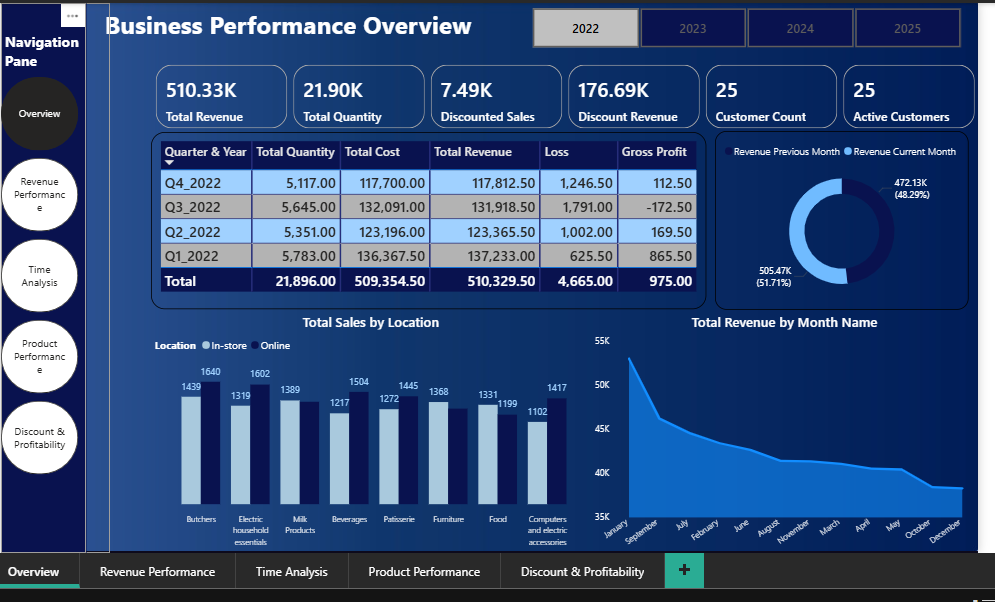

This screenshot's page, from the dashboard's own definition file:
{"tool":"powerbi","page":{"name":"Overview","canvas":[1280,720],"ordinal":0},"visuals":[{"type":"textbox","box":[0,0,111.9,720.4],"z":0,"group":"g1"},{"type":"cardVisual","fields":{"Data":["clean_retail_sales.Total Revenue","clean_retail_sales.Total Quantity","clean_retail_sales.Discounted Sales","clean_retail_sales.Discount Revenue","clean_retail_sales.Customer Count","clean_retail_sales.Active Customers"]},"box":[197,75.7,1083,93],"z":0},{"type":"pageNavigator","box":[0,97,101.4,524.6],"z":1000,"group":"g1"},{"type":"lineChart","fields":{"Category":["Dim_date.Month Name"],"Y":["clean_retail_sales.Total Revenue"]},"box":[772.9,404.1,506.9,315.9],"z":1000},{"type":"slicer","fields":{"Values":["Dim_date.Year"]},"box":[670,0,610,64.6],"z":2000},{"type":"textbox","box":[0,32.3,142.5,64.7],"z":2000,"group":"g1"},{"type":"donutChart","fields":{"Y":["clean_retail_sales.Revenue Previous Month","clean_retail_sales.Revenue Current Month"]},"box":[934.5,167.5,332.1,233.6],"z":3000},{"type":"clusteredColumnChart","title":"Total Sales by Location","fields":{"Y":["Dim_date.Total Sales"],"Series":["clean_retail_sales.Location"],"Category":["clean_retail_sales.Category"]},"box":[196.9,404.1,576,315.9],"z":4000},{"type":"tableEx","fields":{"Values":["Dim_date.Quarter & Year","clean_retail_sales.Total Quantity","clean_retail_sales.Total Cost","clean_retail_sales.Total Revenue","clean_retail_sales.Loss","clean_retail_sales.Gross Profit"]},"box":[196.9,169,727.3,232.2],"z":5000},{"type":"textbox","box":[130.8,0,526,74.9],"z":6000},{"type":"group","id":"g1","title":"Group 1","box":[0,0,142.5,720.4],"z":7000}]}

Visuals, with their boxes on the page's 1280x720 design canvas (x1, y1, x2, y2). These are canvas units, not pixel positions in the 995x602 screenshot, which may show the page scaled, cropped or inside an application window:
textbox: [0,0,112,720]
cardVisual - clean_retail_sales.Total Revenue x clean_retail_sales.Total Quantity: [197,76,1280,169]
pageNavigator: [0,97,101,622]
lineChart - Dim_date.Month Name x clean_retail_sales.Total Revenue: [773,404,1280,720]
slicer - Dim_date.Year: [670,0,1280,65]
textbox: [0,32,142,97]
donutChart - clean_retail_sales.Revenue Previous Month x clean_retail_sales.Revenue Current Month: [934,168,1267,401]
"Total Sales by Location" clusteredColumnChart: [197,404,773,720]
tableEx - Dim_date.Quarter & Year x clean_retail_sales.Total Quantity: [197,169,924,401]
textbox: [131,0,657,75]
"Group 1" group: [0,0,142,720]
